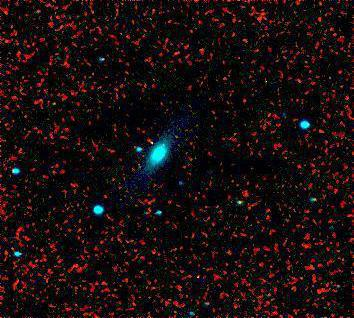star: (151, 127, 181, 157)
